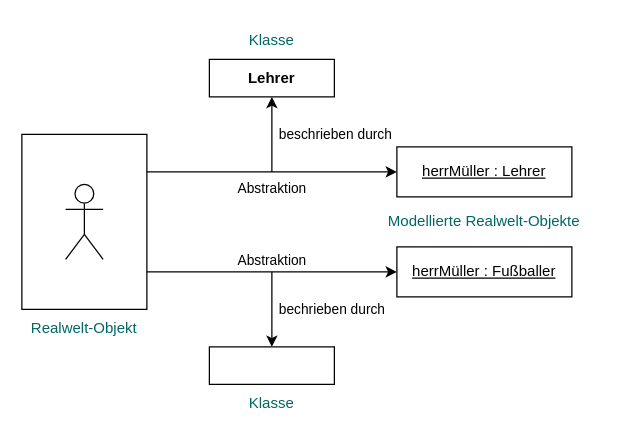
Image size: 618x443. Some labels were removed from this diagram. Here are the shapes that lost their labels. From the top down, the centre of each, then its label:
(x=83, y=221): Herr Müller
(x=271, y=365): Fußballer
